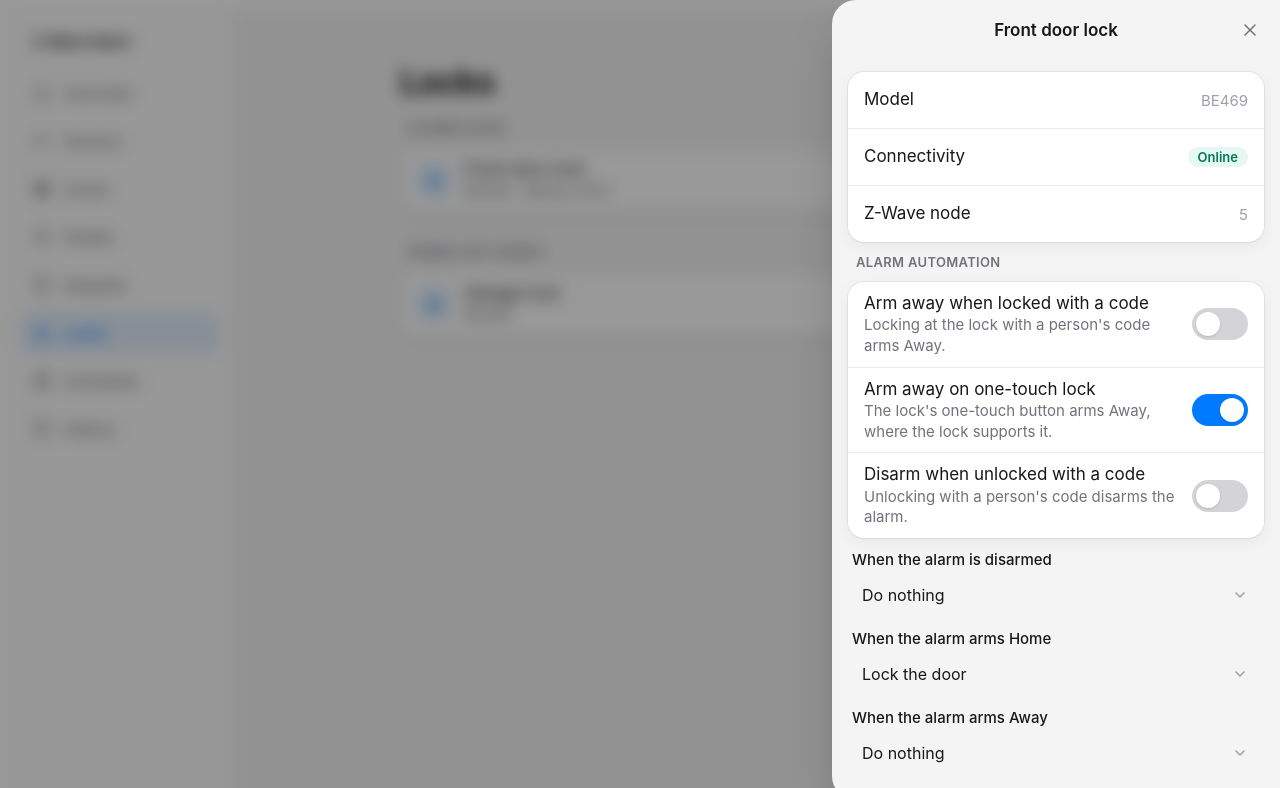
Scenario: lock automation and code sync › says a refusal and leaves the switch as it was
Click the switch named "Arm away when locked with a code" at (1220, 324), box [1192,308,1248,340]
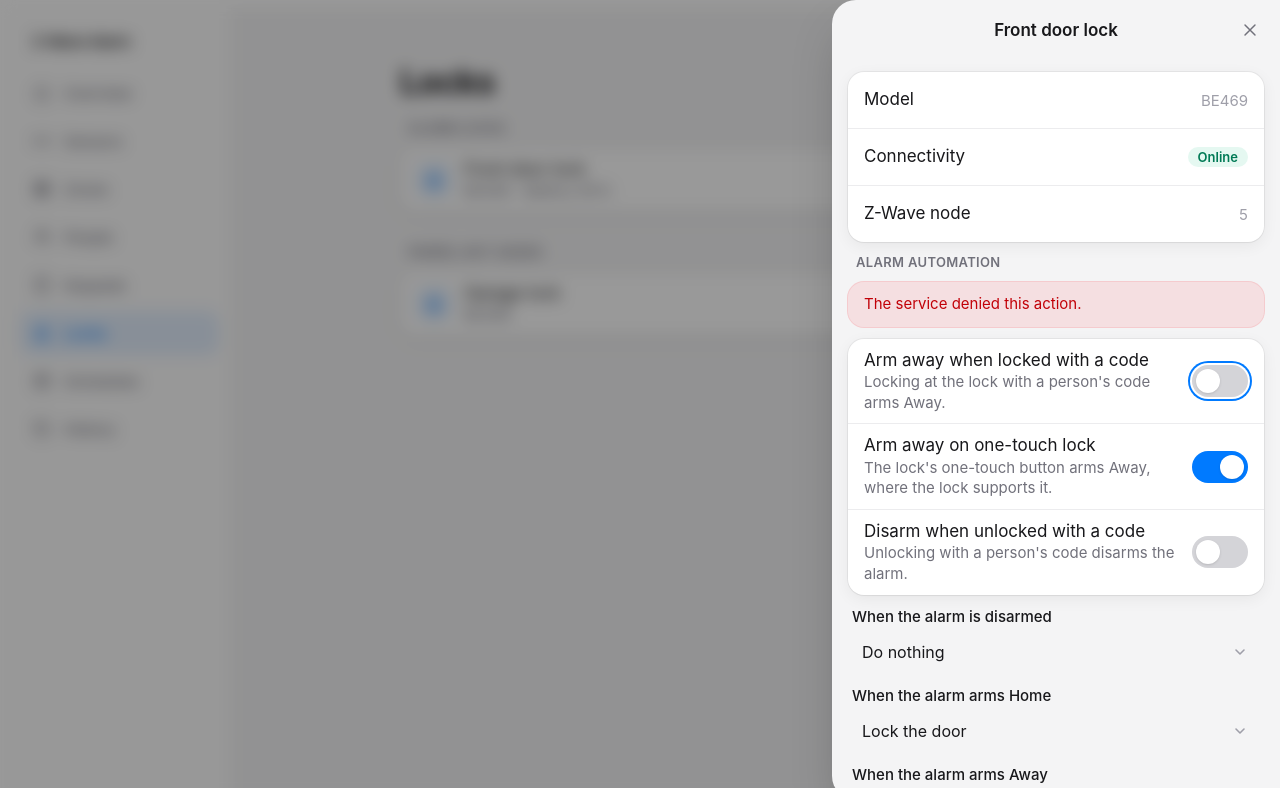
Now the message shows "denied", box [864,294,1082,313]
